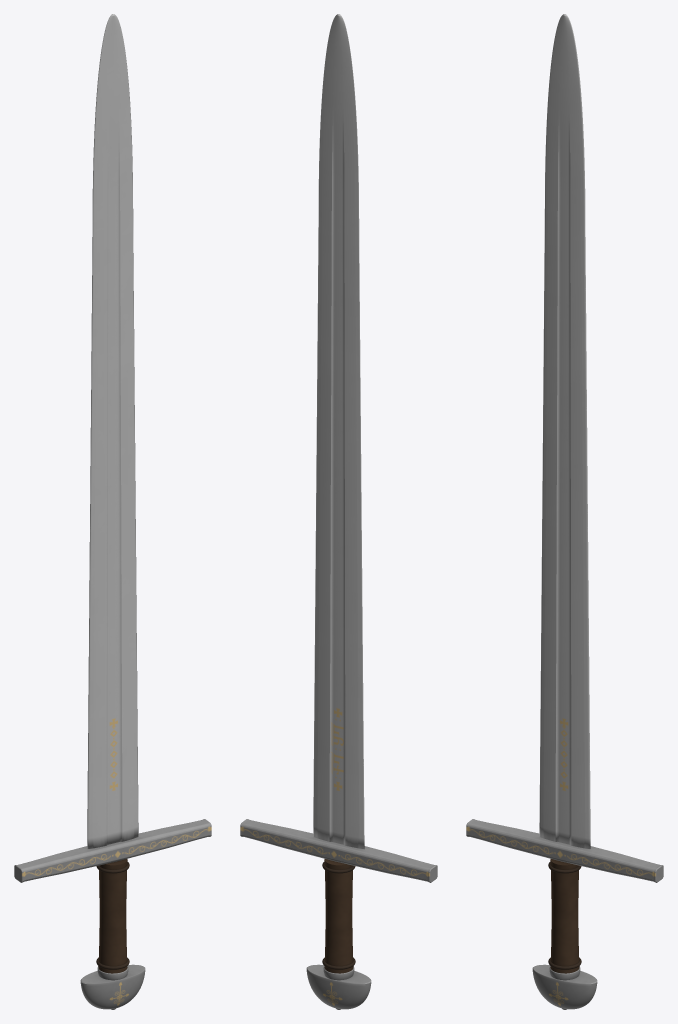
The model's file is Sword.fbx.
3 views of the same model, side by side, from view 1: azimuth 30°, elevation 25°; view 2: azimuth 150°, elevation 25°; view 3: azimuth 330°, elevation 25° (orthographic).
Visible parts, largest first — view 1: Sword; view 2: Sword; view 3: Sword.
Part boxes in pixels (x1=…): Sword: x1=14, y1=14, x2=211, y2=1009; Sword: x1=240, y1=14, x2=437, y2=1009; Sword: x1=466, y1=14, x2=663, y2=1009.
Bounding box in the file's own units: 0.192 × 0.9609 × 0.0294.
